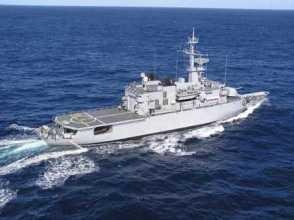warship: (50, 40, 271, 141)
